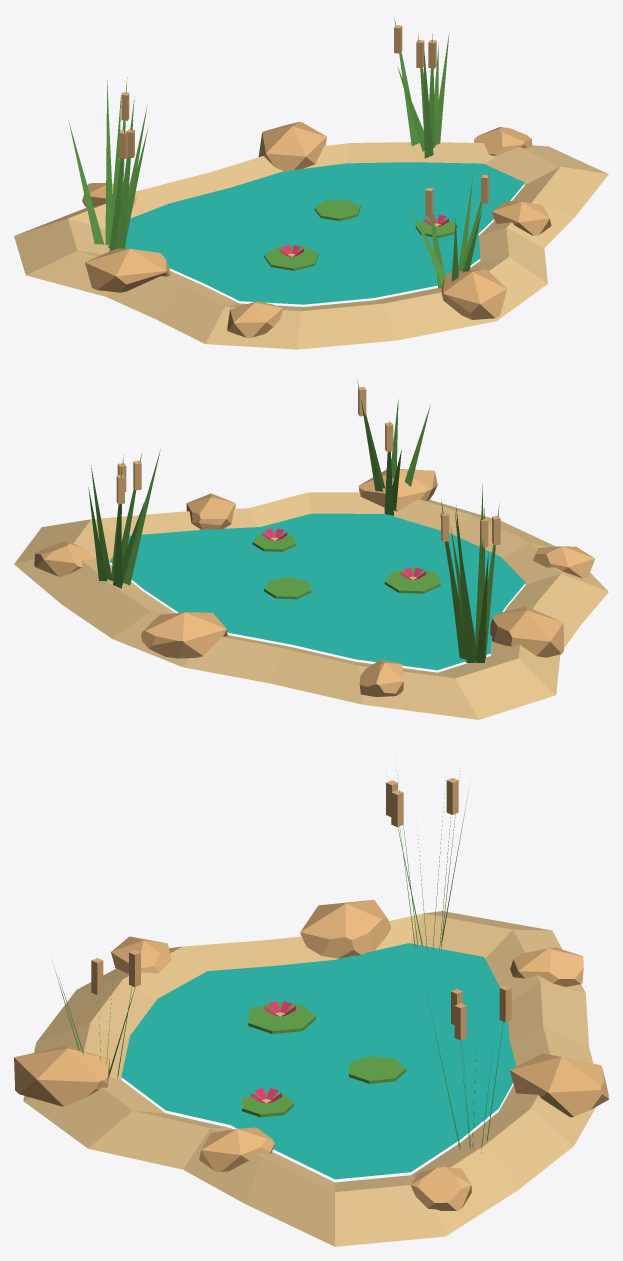
File: oasis_pond.glb
3 views of the same model, one above another, from view 1: azimuth 30°, elevation 25°; view 2: azimuth 150°, elevation 25°; view 3: azimuth 270°, elevation 25° (orthographic). The views are drawn at different scales.
Visible parts, largest first — view 1: oasis_pond; view 2: oasis_pond; view 3: oasis_pond.
Part boxes in pixels (x1=…): oasis_pond: x1=14, y1=17, x2=608, y2=349; oasis_pond: x1=14, y1=379, x2=608, y2=719; oasis_pond: x1=14, y1=764, x2=608, y2=1246.
Bounding box in the file's own units: 2.9 × 0.8821 × 2.17.
